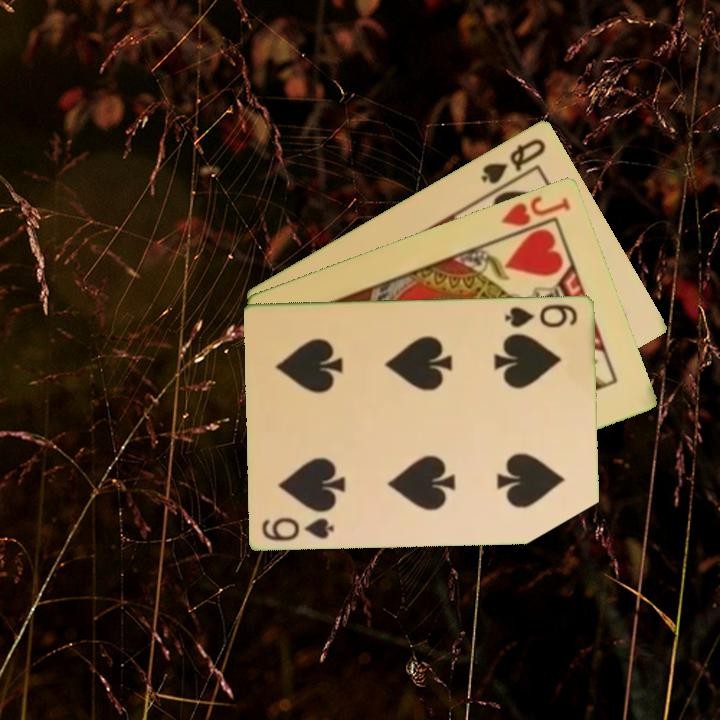6s: (502, 300, 581, 330), (259, 513, 338, 543)
Jh: (498, 191, 574, 229)
Qs: (477, 134, 549, 187)
